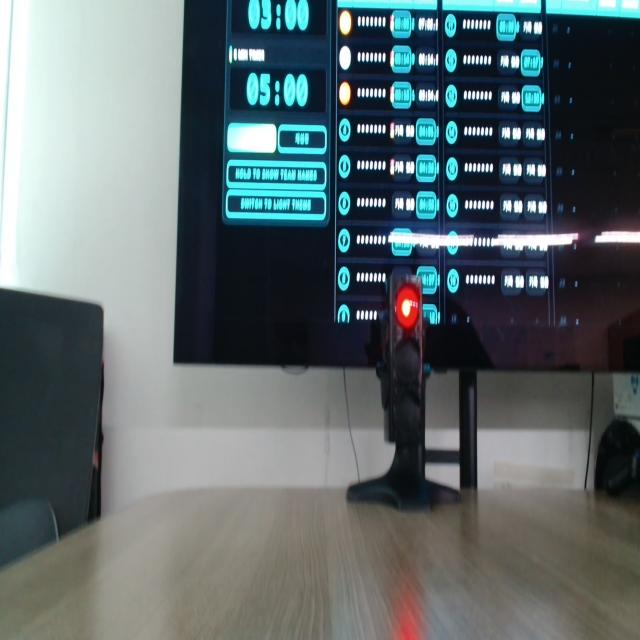red_light: (396, 285, 419, 330)
